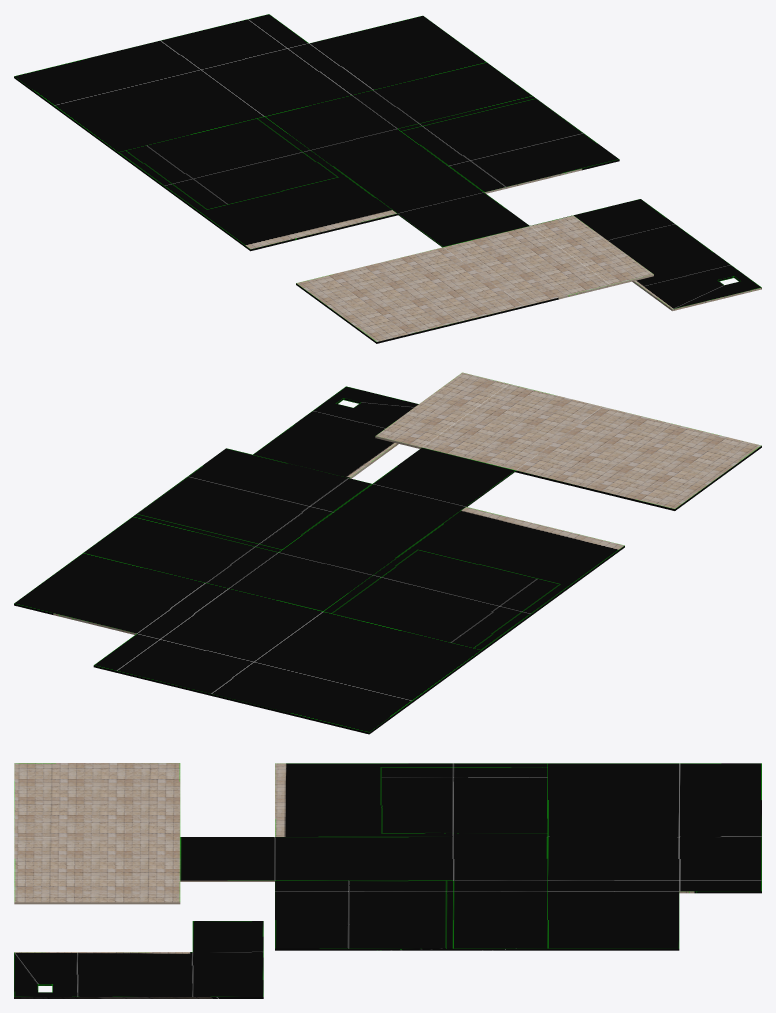
File: house floor tester.fbx
3 views of the same model, one above another, from view 1: azimuth 30°, elevation 25°; view 2: azimuth 150°, elevation 25°; view 3: azimuth 270°, elevation 25° (orthographic). The views are drawn at different scales.
Parts seen in each view (by area): view 1: Floor; view 2: Floor; view 3: Floor.
Part boxes in pixels (x1,y1,x2,y2): Floor: [14, 14, 761, 343]; Floor: [14, 372, 761, 734]; Floor: [14, 763, 761, 998].
Size of the model in its own units: 2222 by 3629 by 227.
Materials: 1 (1 with a texture image).
